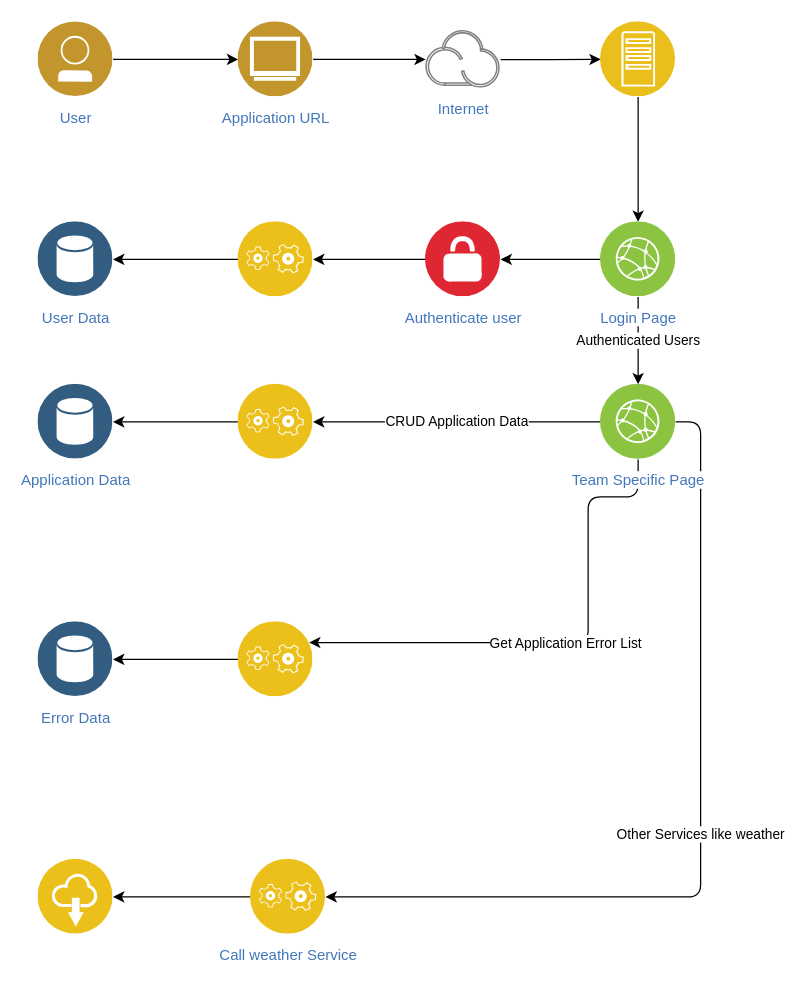
This 806x985 diagram has some shape labels left out. Here are the shapes that lost their labels. From the top down, the box of each, then its label:
(600, 21, 675, 96): Application Server
(238, 221, 312, 296): Authentication Service
(238, 384, 312, 459): Application List
(238, 621, 312, 696): Error List
(38, 859, 112, 934): Weather API
